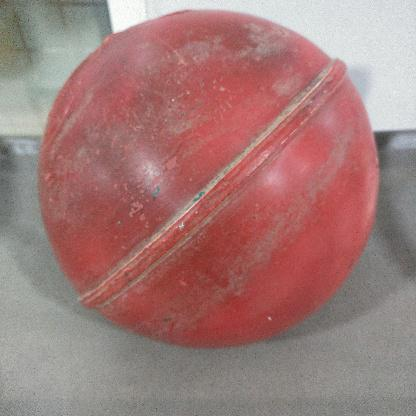red_buoy: (38, 5, 381, 357)
